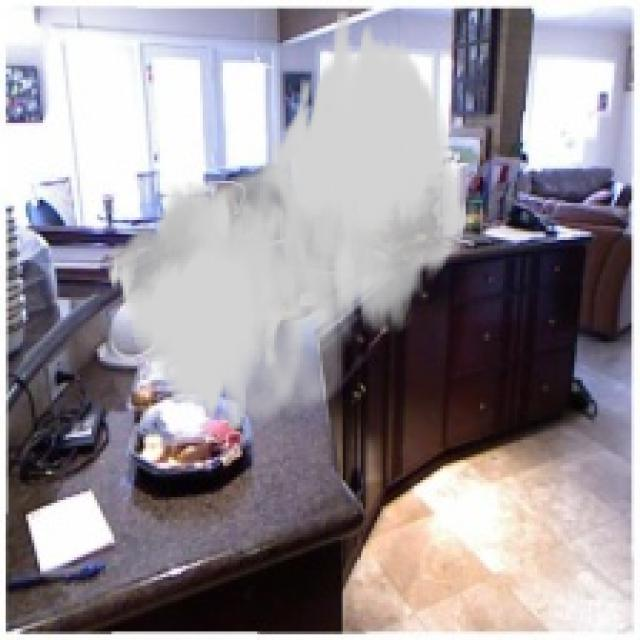Smoke: (106, 11, 468, 432)
